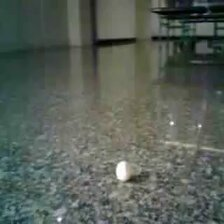w: (115, 160, 132, 180)
